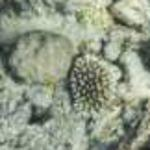alive: (1, 1, 146, 148)
